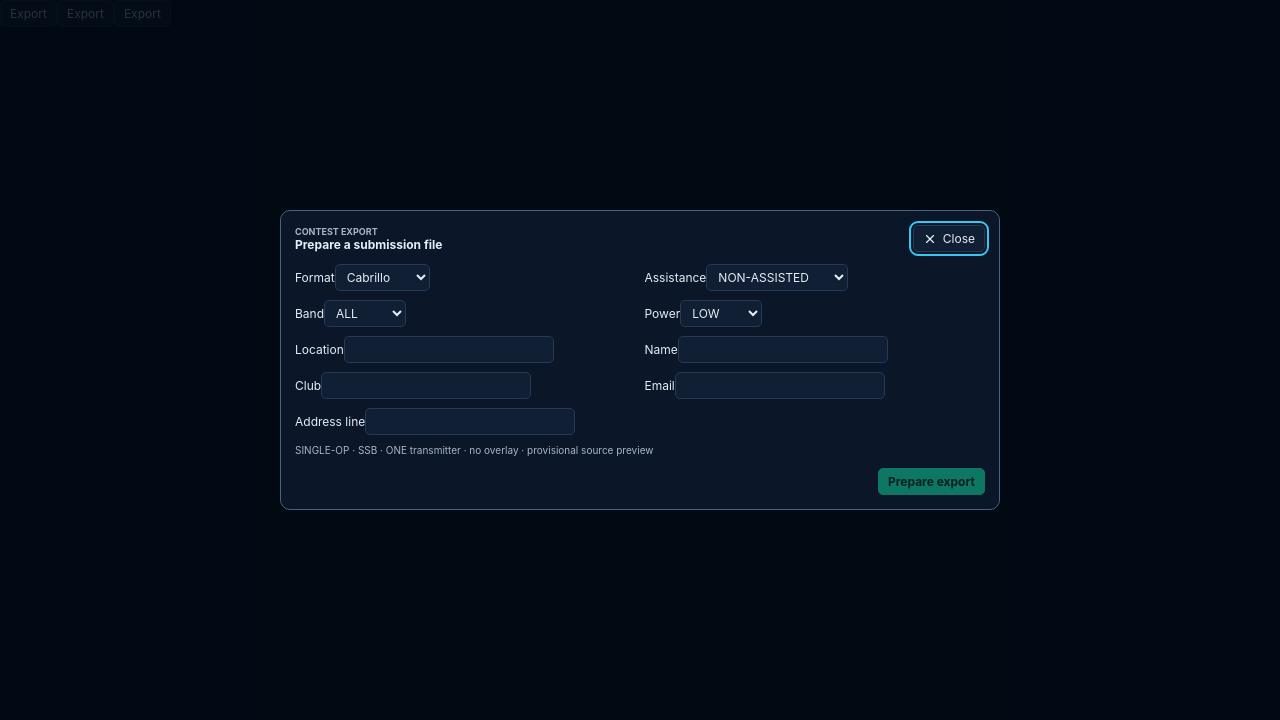
Test: derives the SSB Cabrillo mode from the pinned entry descriptor
Step 1. Type "DX" into the field labelled "Location" → (449, 350), box [344,336,554,363]
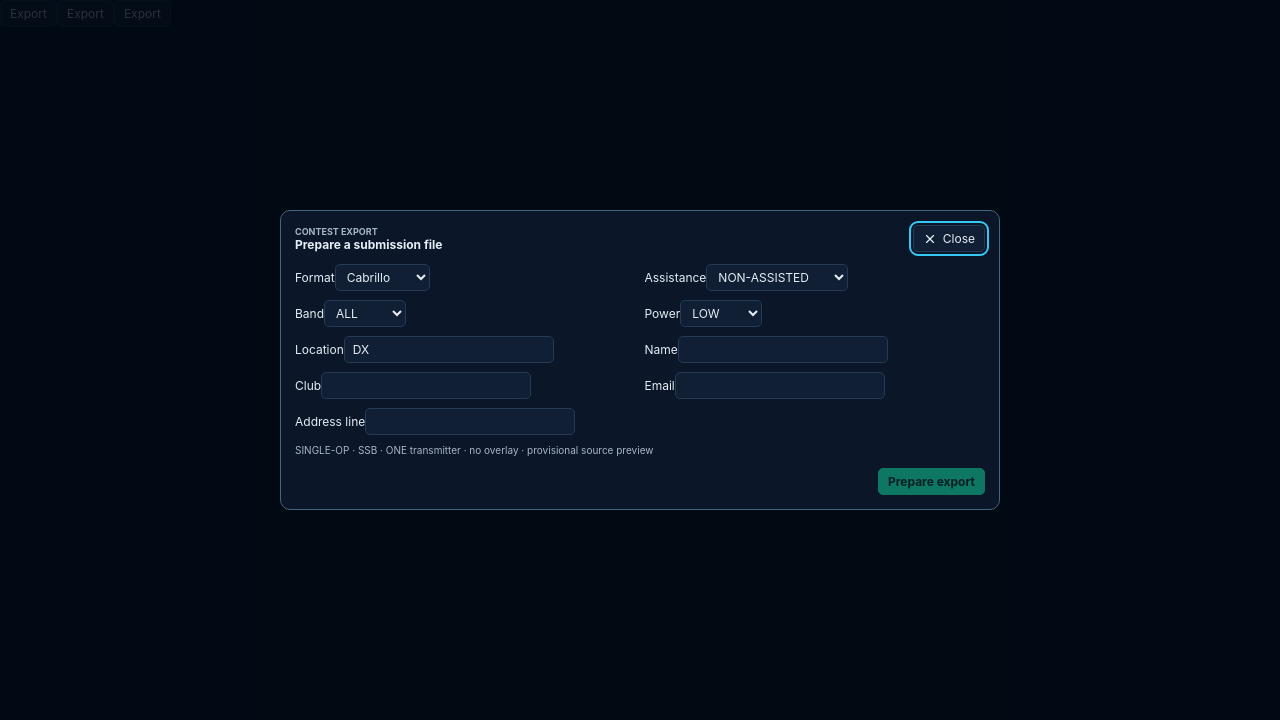
Step 2. Type "Operator" into the field labelled "Name" → (783, 350), box [678,336,888,363]
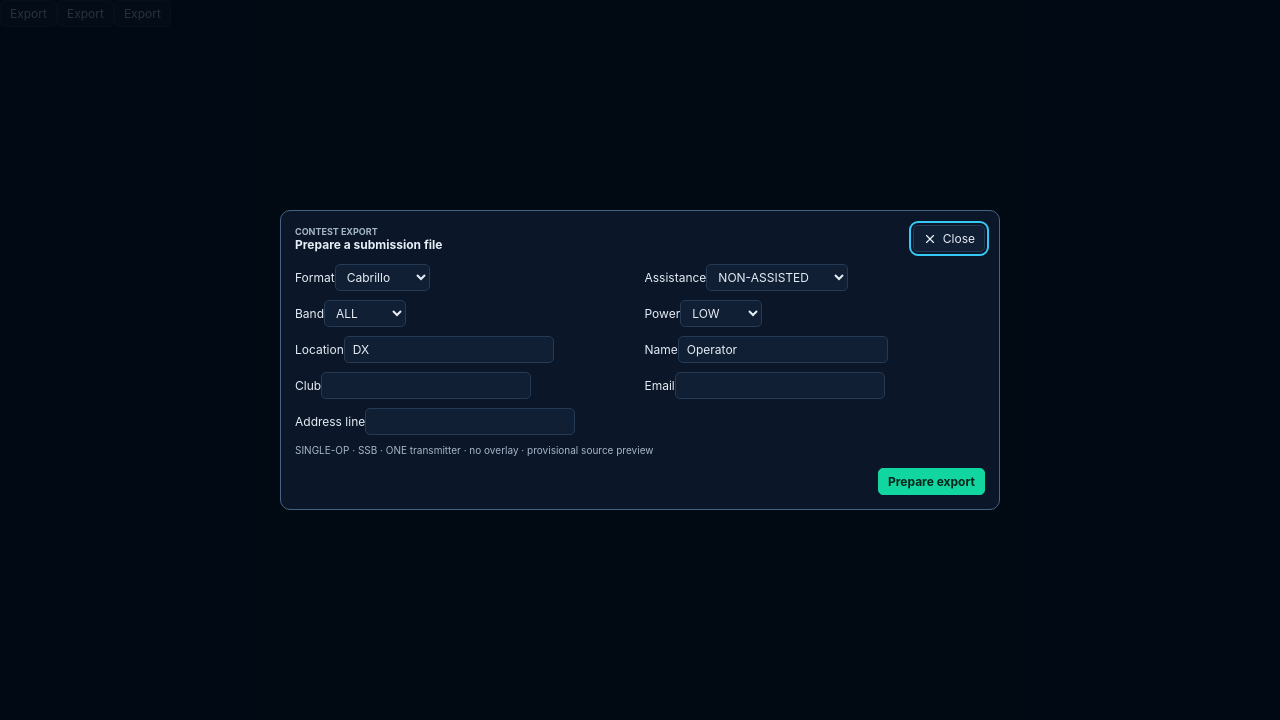
Step 3. Click the button "Prepare export" → (931, 482), box [878,468,985,495]
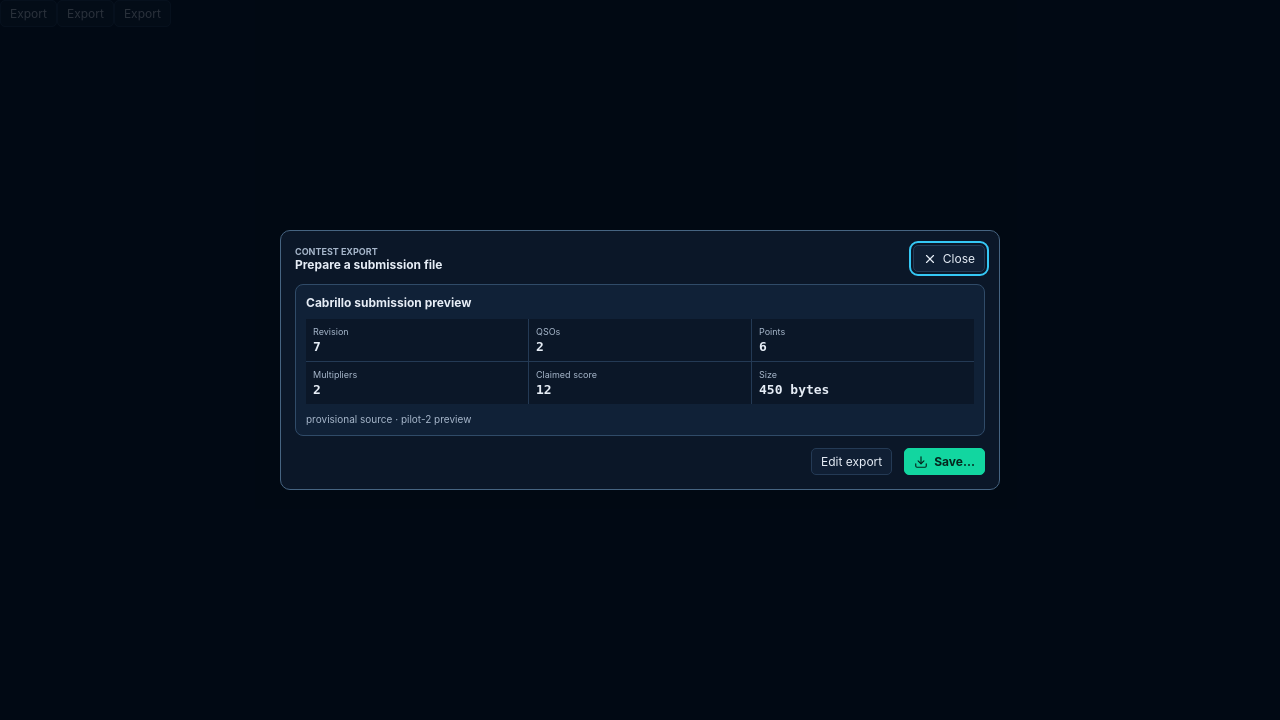
Result: the element named "Prepared export summary" is shown at [295,284,985,436]
